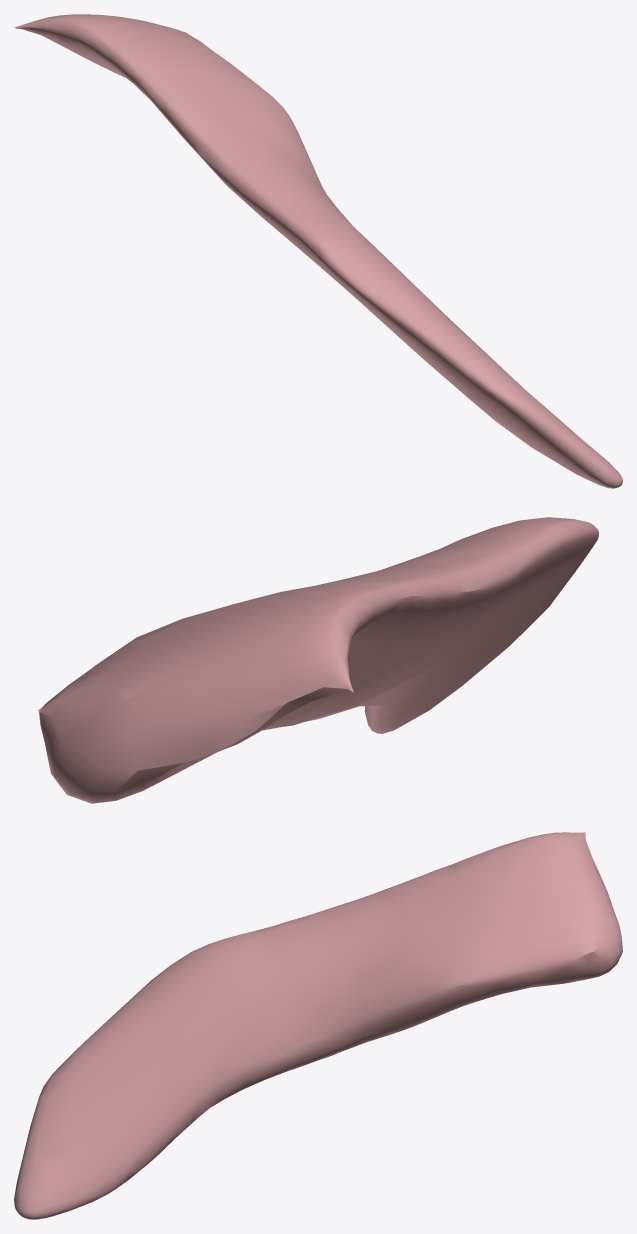
File: fma275279_mm3771m.glb
The picture shows the model from 3 angles, top to bottom: view 1: azimuth 30°, elevation 25°; view 2: azimuth 150°, elevation 25°; view 3: azimuth 270°, elevation 25°; orthographic projection. The views are drawn at different scales.
Parts seen in each view (by area): view 1: FMA275279_MM3771M; view 2: FMA275279_MM3771M; view 3: FMA275279_MM3771M.
Part boxes in pixels (x1,y1,x2,y2): FMA275279_MM3771M: (14, 14, 622, 488); FMA275279_MM3771M: (38, 517, 598, 803); FMA275279_MM3771M: (14, 832, 622, 1219).
Size of the model in its own units: 0.0315 by 0.0322 by 0.0643.
